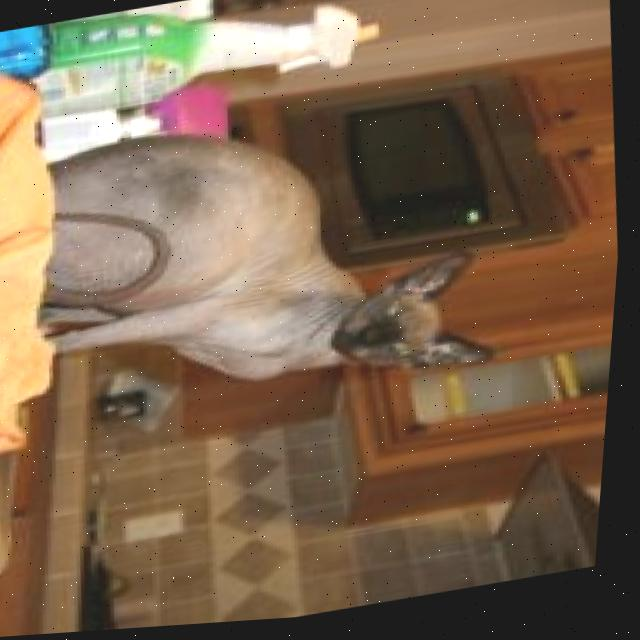Sphynx: (12, 83, 525, 443)
